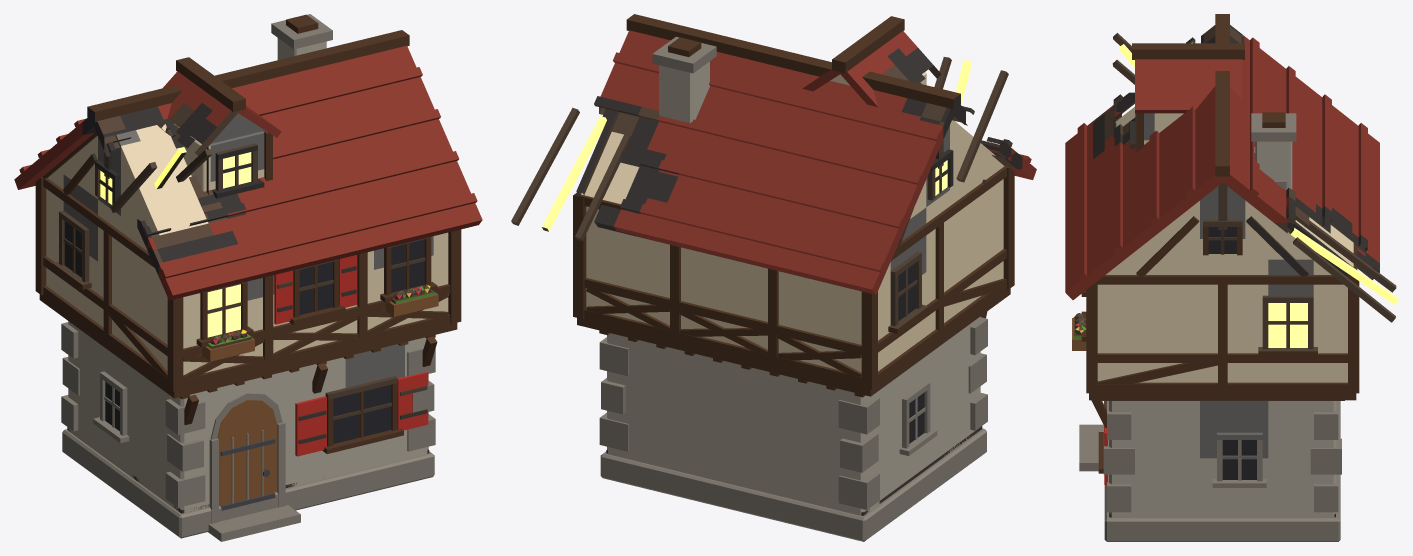
Rendered from Haus_Mittel_Beschaedigt.fbx.
3 renders of one model, left to right at view 1: azimuth 30°, elevation 25°; view 2: azimuth 150°, elevation 25°; view 3: azimuth 270°, elevation 25°, orthographic. The views are drawn at different scales.
Parts seen in each view (by area): view 1: Haus_Mittel_Beschaedigt; view 2: Haus_Mittel_Beschaedigt; view 3: Haus_Mittel_Beschaedigt.
Part boxes in pixels (left/top/right/bottom): Haus_Mittel_Beschaedigt: left=14, top=14, right=482, bottom=541; Haus_Mittel_Beschaedigt: left=511, top=14, right=1036, bottom=541; Haus_Mittel_Beschaedigt: left=1065, top=14, right=1398, bottom=541.
Size of the model in its own units: 6.9 by 7.92 by 5.86.
